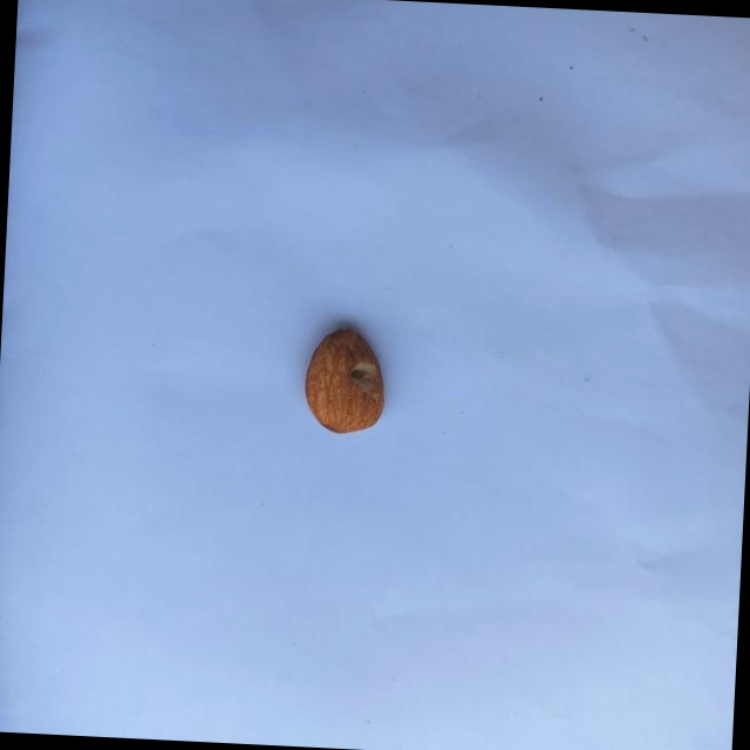grade3: (300, 321, 394, 440)
